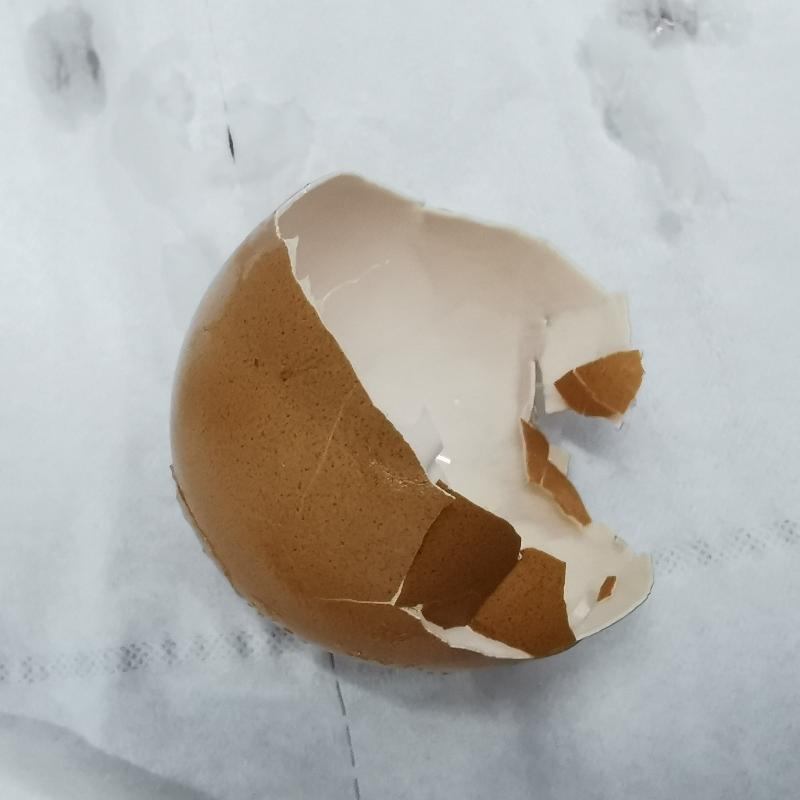eggshell: (163, 165, 662, 670)
